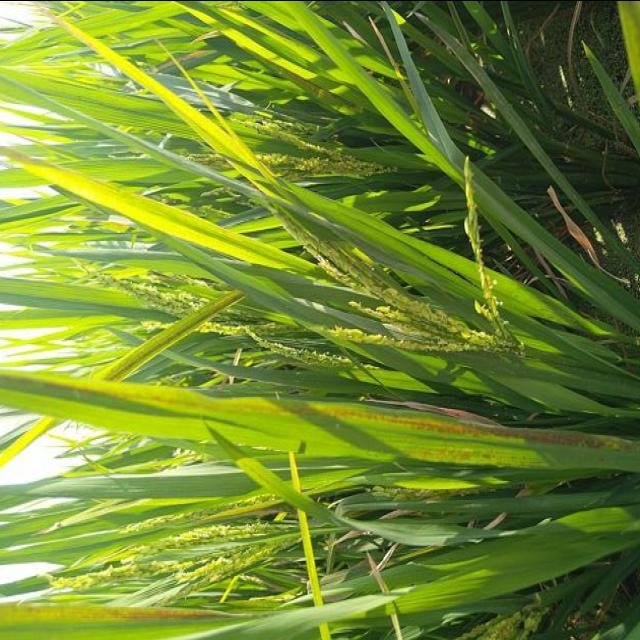Leaf Streak: (0, 375, 639, 450), (0, 605, 239, 621), (410, 442, 536, 466)
